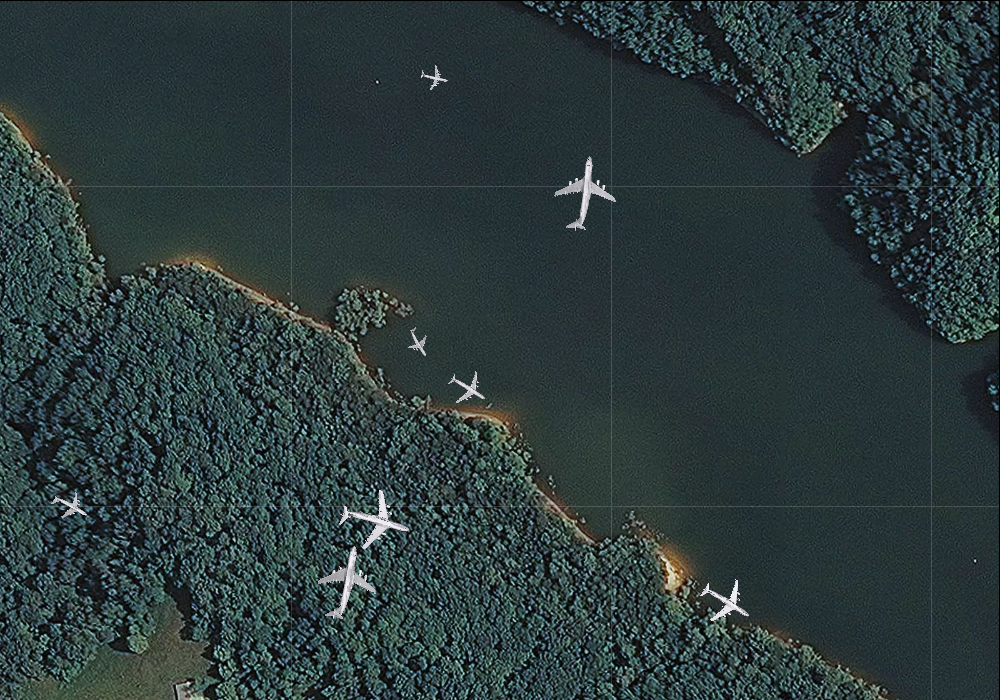plane: (331, 479, 418, 564), (303, 539, 385, 626), (544, 152, 622, 234), (689, 566, 762, 638), (440, 361, 495, 415), (44, 482, 94, 531), (399, 321, 438, 362), (417, 60, 450, 93)
